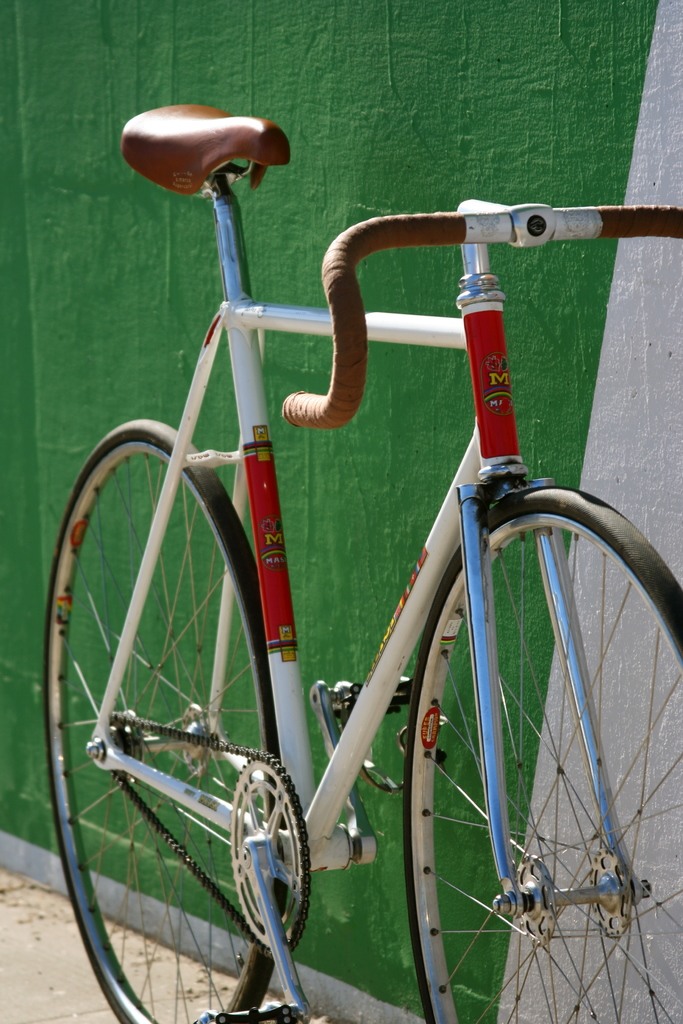Bike_toward: (82, 179, 670, 1024)
